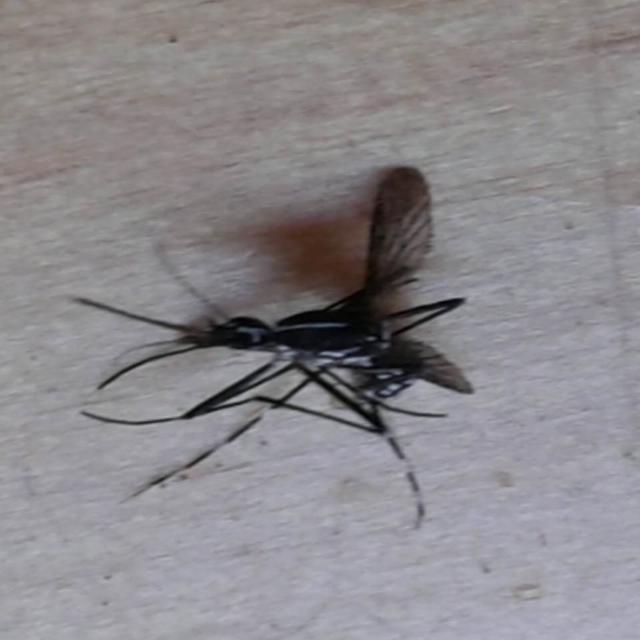albopictus: (44, 166, 498, 538)
